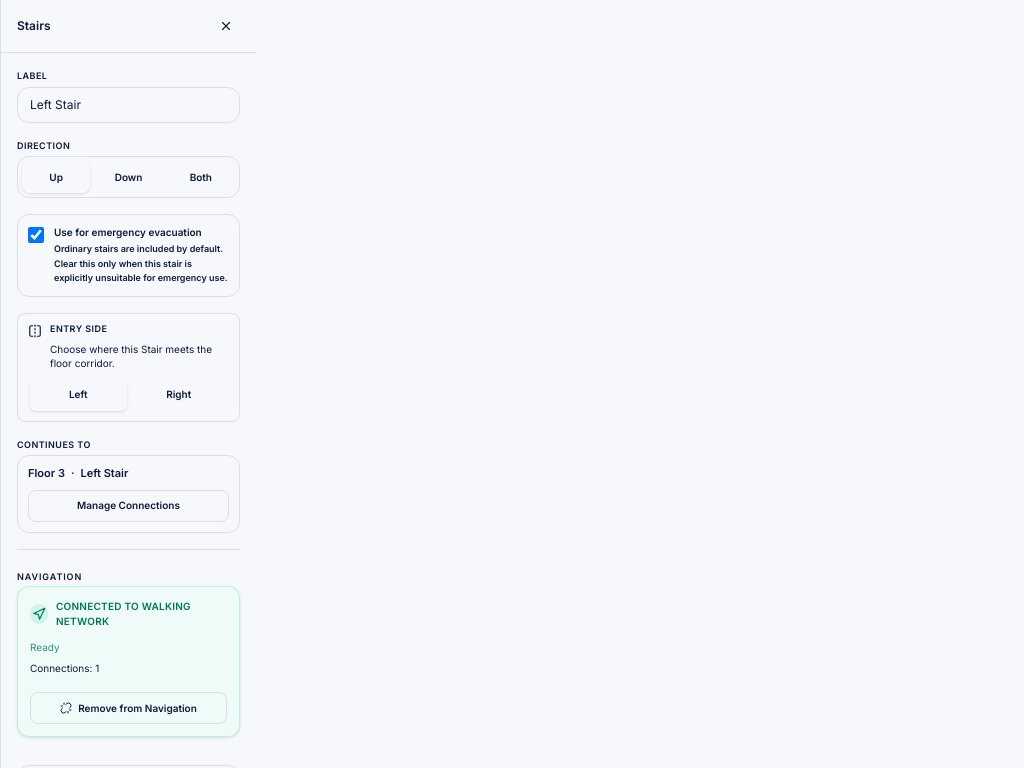
Room authoring properties › does not show a false continuation warning when the usable adjacent side is connected
Click the button with test id "circulation-group-trigger-stairs": (128,506) x1=28 y1=490 x2=229 y2=522
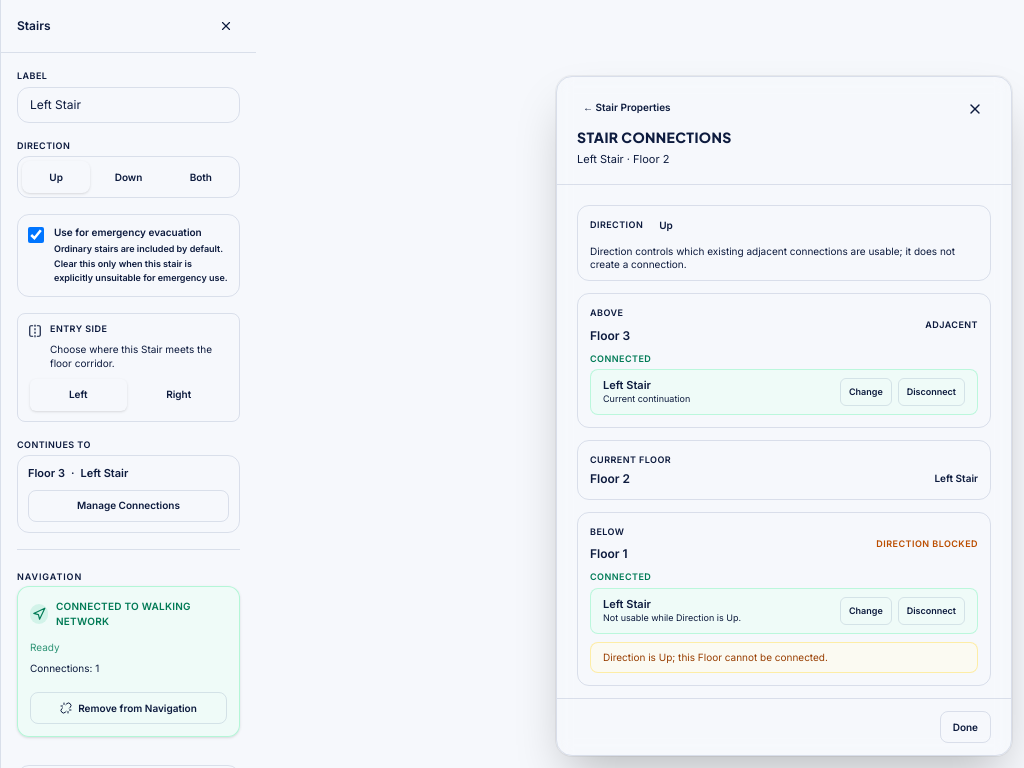
Now the element with test id "stair-picker-floor-f3" shows "Connected", box x1=590 y1=352 x2=651 y2=364
